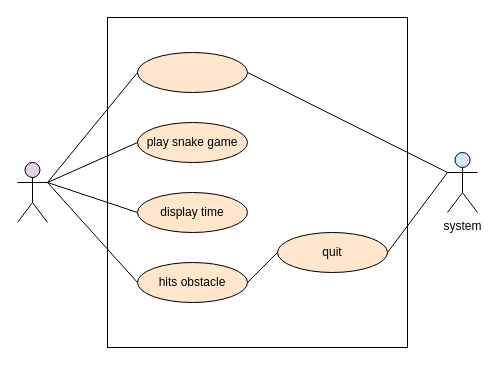
The diagram is 499 pixels wide and 365 high, and some of its shapes have lost their labels. Here are the shapes that lost their labels. From the top down, the box of each, then its label:
(136, 52, 248, 92): launch game
(16, 162, 48, 222): Actor
